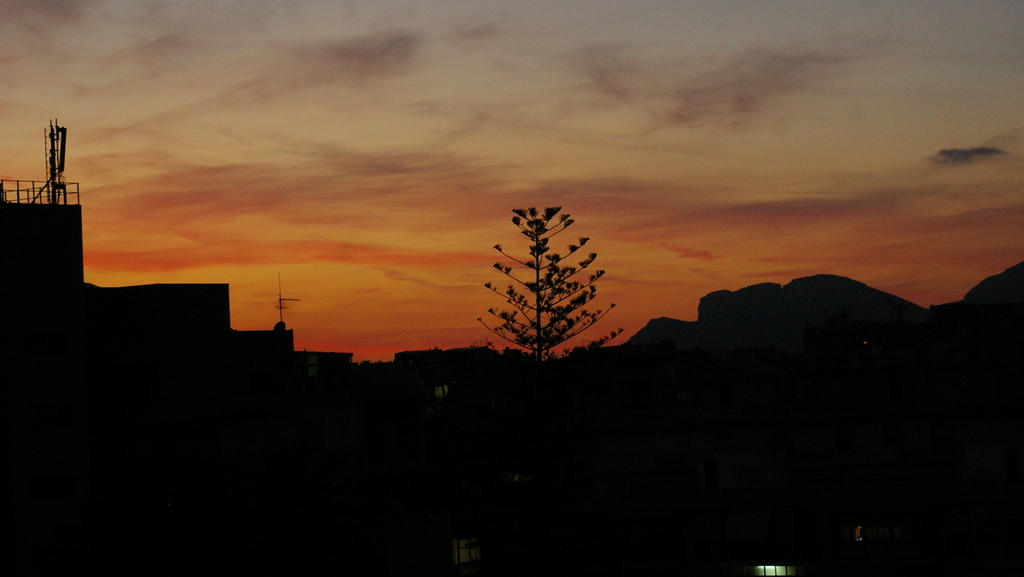Tree: (477, 189, 615, 361)
